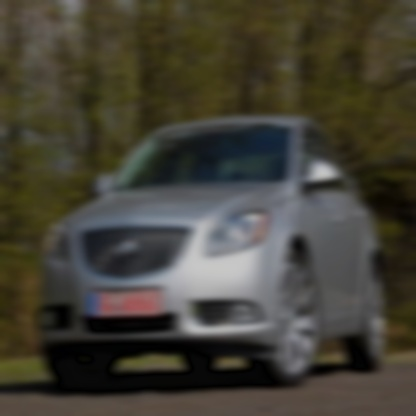Vehicle: (40, 116, 386, 384)
